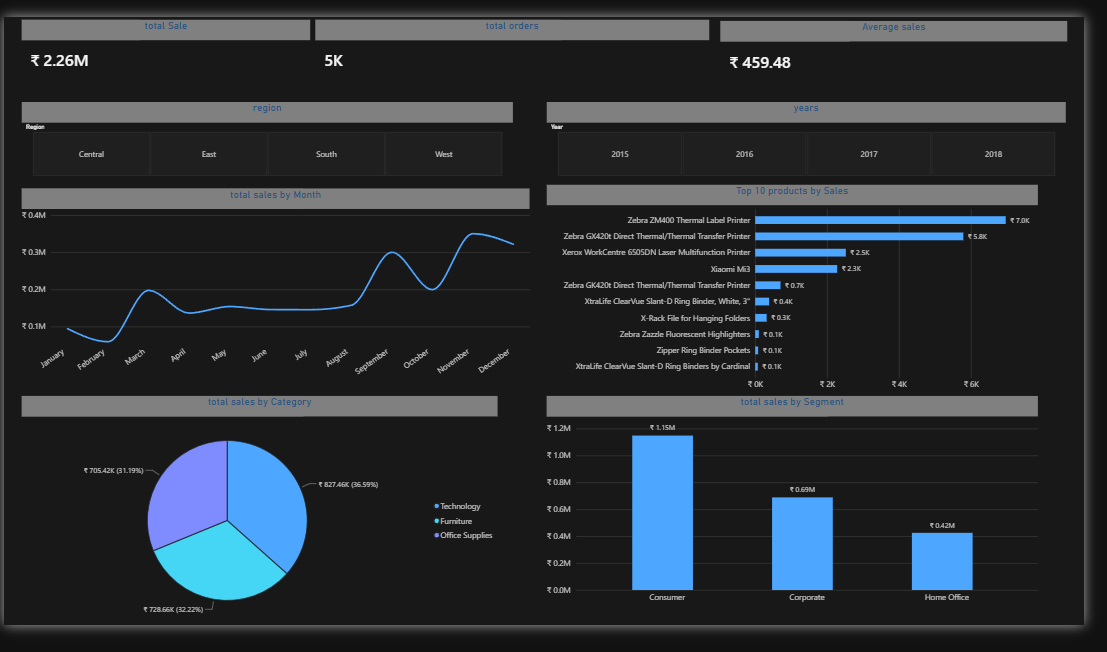

This screenshot's page, from the dashboard's own definition file:
{"tool":"powerbi","page":{"name":"Page 1","canvas":[1920,1080],"ordinal":0},"visuals":[{"type":"cardVisual","title":"total Sale","fields":{"Data":["train.total sales"]},"box":[31.1,4.4,513.3,110],"z":2},{"type":"cardVisual","title":"total orders","fields":{"Data":["train.total orders"]},"box":[553.3,4.4,700,110],"z":3},{"type":"cardVisual","title":"Average sales","fields":{"Data":["train.avg sales"]},"box":[1273.3,6.7,616.7,110],"z":4},{"type":"clusteredBarChart","title":" Top 10 products by Sales","fields":{"Category":["train.Product Name"],"Y":["train.total sales"]},"box":[963.3,296.7,873.3,370],"z":5},{"type":"pieChart","fields":{"Category":["train.Category"],"Y":["train.total sales"]},"box":[30,673.3,846.7,406.7],"z":6},{"type":"lineChart","fields":{"Category":["train.Order Date.Variation.Date Hierarchy.Year","train.Order Date.Variation.Date Hierarchy.Quarter","train.Order Date.Variation.Date Hierarchy.Month","train.Order Date.Variation.Date Hierarchy.Day"],"Y":["train.total sales"]},"box":[30,303.3,903.3,350],"z":7},{"type":"slicer","title":"years","fields":{"Values":["train.Year"]},"box":[963.3,150,923.3,133.3],"z":8},{"type":"slicer","title":"region","fields":{"Values":["train.Region"]},"box":[30,150,873.3,133.3],"z":9},{"type":"clusteredColumnChart","fields":{"Category":["train.Segment"],"Y":["train.total sales"]},"box":[963.3,673.3,873.3,373.3],"z":10}]}

Visuals, with their boxes in screenshot pixels (x1, y1, x2, y2):
"total Sale" cardVisual: 58 37 350 100
"total orders" cardVisual: 355 37 753 100
"Average sales" cardVisual: 764 38 1106 101
" Top 10 products by Sales" clusteredBarChart: 588 203 1085 414
pieChart - train.Category x train.total sales: 57 417 539 649
lineChart - train.Order Date.Variation.Date Hierarchy.Year x train.Order Date.Variation.Date Hierarchy.Quarter: 57 207 571 406
"years" slicer: 588 120 1106 196
"region" slicer: 57 120 554 196
clusteredColumnChart - train.Segment x train.total sales: 588 417 1085 630
